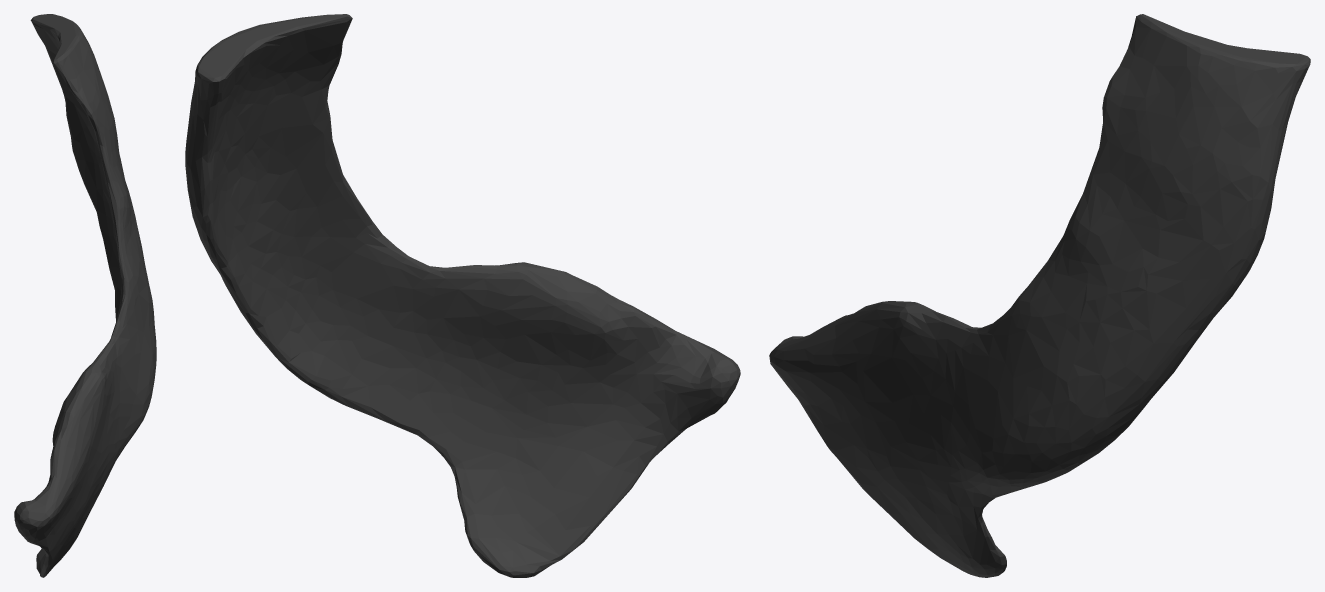
The model's file is Ventricle_1_L_vent_horn.glb.
3 views of the same model, side by side, from view 1: azimuth 30°, elevation 25°; view 2: azimuth 150°, elevation 25°; view 3: azimuth 270°, elevation 25° (orthographic). The views are drawn at different scales.
Visible parts, largest first — view 1: Ventricle_1_L_vent_horn; view 2: Ventricle_1_L_vent_horn; view 3: Ventricle_1_L_vent_horn.
Boxes of the visible parts, x1,y1,x2,y2 form: Ventricle_1_L_vent_horn: (14,14,156,577); Ventricle_1_L_vent_horn: (185,14,740,577); Ventricle_1_L_vent_horn: (769,14,1310,577).
Bounding box in the file's own units: 0.0168 × 0.029 × 0.0234.
Materials: 1 (1 with a texture image).
